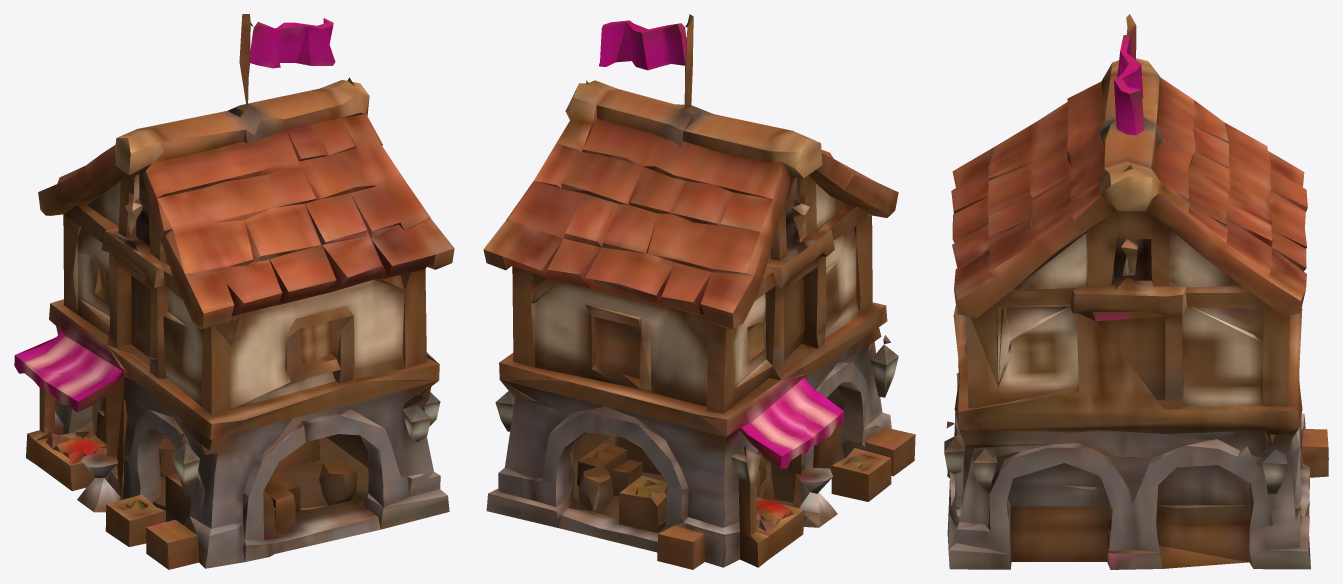
The model's file is storehouse2.lod2.glb.
3 renders of one model, left to right at view 1: azimuth 30°, elevation 25°; view 2: azimuth 150°, elevation 25°; view 3: azimuth 270°, elevation 25°, orthographic. The views are drawn at different scales.
Visible parts, largest first — view 1: storehouse2.lod2_uv; view 2: storehouse2.lod2_uv; view 3: storehouse2.lod2_uv.
Part boxes in pixels (box(x1,y1,x2,y2)): storehouse2.lod2_uv: box(14, 14, 454, 569); storehouse2.lod2_uv: box(483, 14, 915, 569); storehouse2.lod2_uv: box(944, 14, 1328, 569).
Size of the model in its own units: 1.24 by 1.89 by 1.34.
Materials: 1 (1 with a texture image).
